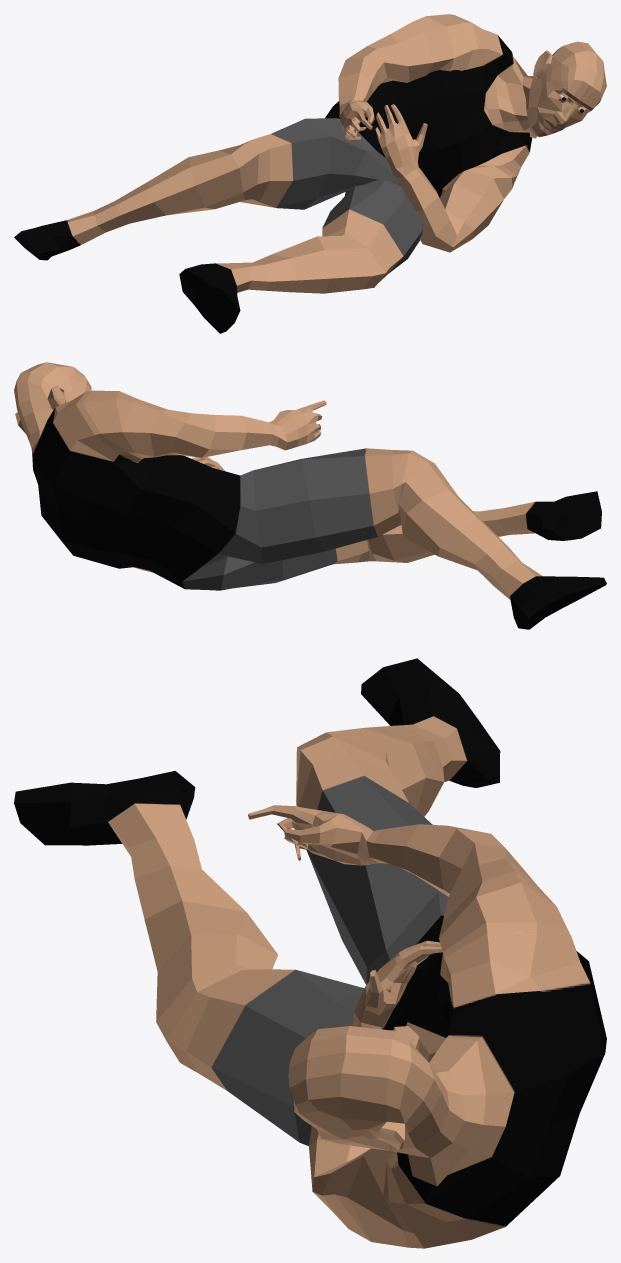
Rendered from PlayerDead(48).obj.
3 renders of one model, top to bottom at view 1: azimuth 30°, elevation 25°; view 2: azimuth 150°, elevation 25°; view 3: azimuth 270°, elevation 25°, orthographic. The views are drawn at different scales.
Visible parts, largest first — view 1: Plane002; view 2: Plane002; view 3: Plane002.
Boxes of the visible parts, box(x1,y1,x2,y2) form: Plane002: box(14, 14, 606, 333); Plane002: box(14, 362, 606, 629); Plane002: box(14, 658, 606, 1248).
Size of the model in its own units: 1732 by 564 by 846.
